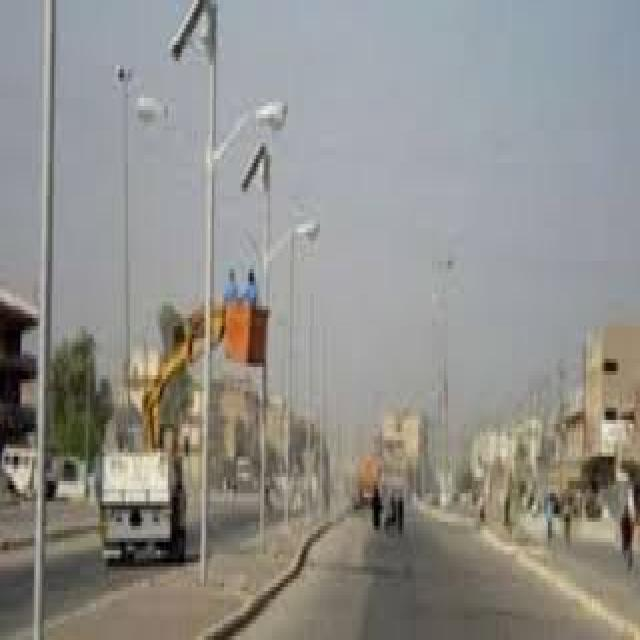Street Light: (202, 94, 286, 583), (252, 216, 320, 546)
